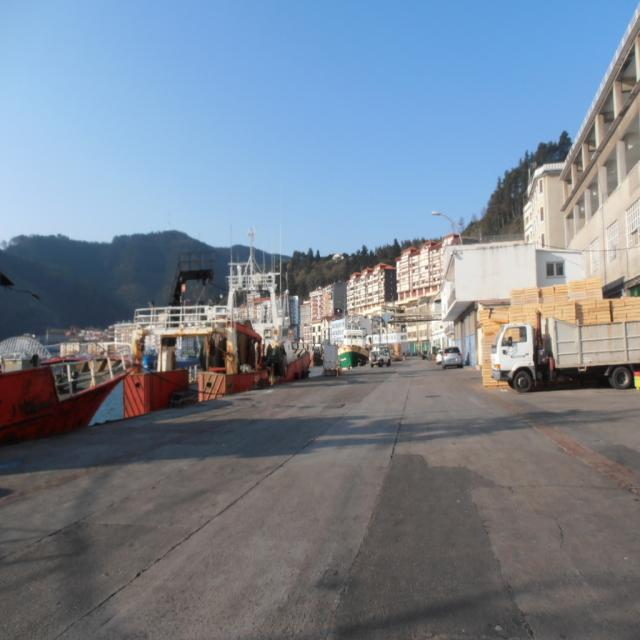car: (368, 346, 392, 364), (442, 346, 463, 364)
